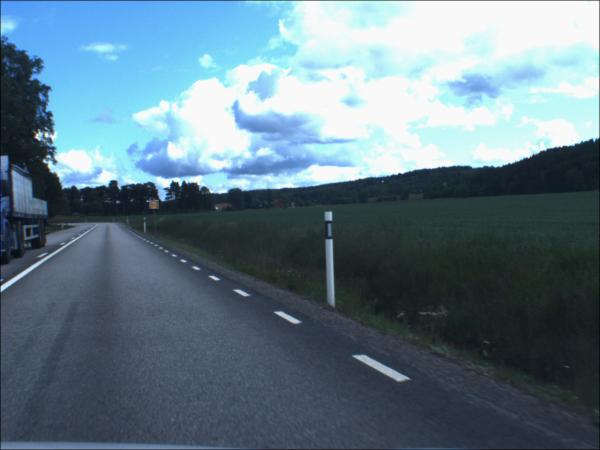80_SIGN: (150, 202, 161, 212)
